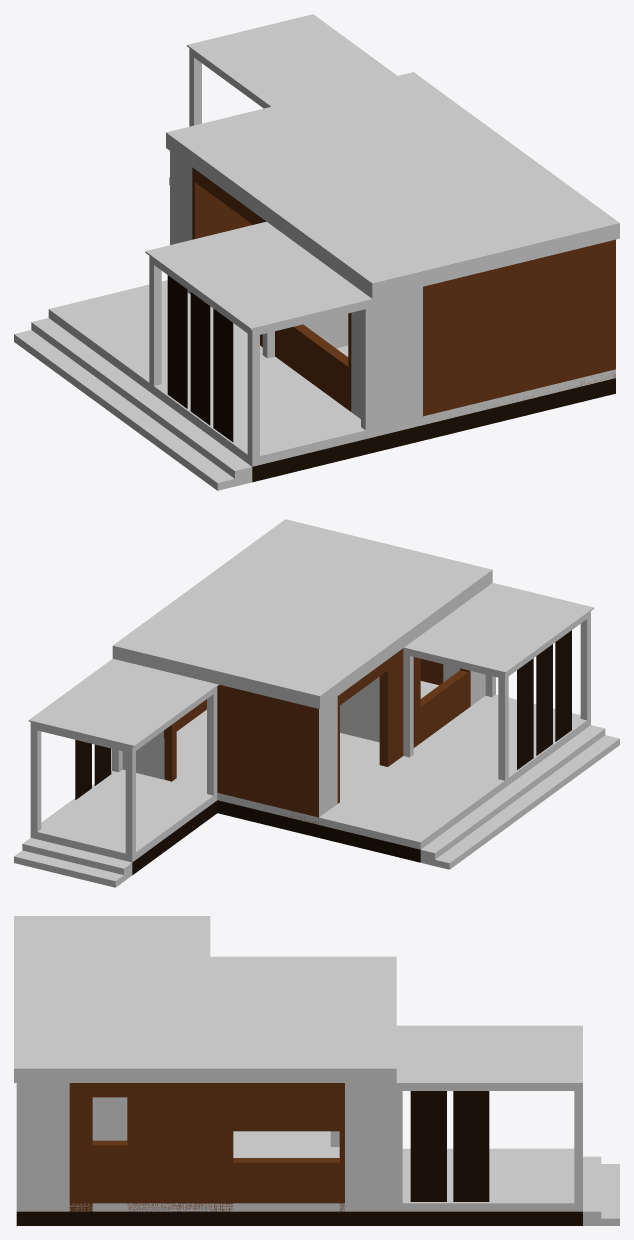
Rendered from domek_11_27_09_rewizja.gltf.
3 views of the same model, one above another, from view 1: azimuth 30°, elevation 25°; view 2: azimuth 150°, elevation 25°; view 3: azimuth 270°, elevation 25° (orthographic). The views are drawn at different scales.
Visible parts, largest first — view 1: dach.001, zach_drewno, pn taras podloga, dach najwyzej, pd zadaszenie support, zach_beton, schodek 2.001, schodek 1.001, podpiwniczenie, pn-zach pod oknem, element azurowy.003, element azurowy.002 (+15 smaller); view 2: dach.001, pn taras podloga, wsch-pn sciana_drewno, dach najwyzej, pd zadaszenie support, taras podloga, podloga, schodek 2.001, schodek 1.001, pn sciana, schodek 1.002, pn-zach pod oknem (+22 smaller); view 3: dach.001, pd drewo, pd zadaszenie support, dach najwyzej, taras podloga, pd-zach beton.001, podloga, podpiwniczenie, pd-zach beton, pd-wsch nadproze, pd-wsch pod oknem, element azurowy (+12 smaller).
Part boxes in pixels (x1,y1,x2,y2): dach.001: (166,72,619,298); zach_drewno: (423,239,615,416); pn taras podloga: (48,280,373,466); dach najwyzej: (145,221,374,329); pd zadaszenie support: (187,14,397,106); zach_beton: (373,287,422,436); schodek 2.001: (31,318,252,486); schodek 1.001: (14,330,234,490); podpiwniczenie: (373,378,615,452); pn-zach pod oknem: (291,324,348,409); element azurowy.003: (167,275,187,408); element azurowy.002: (190,292,210,425); dach.001: (112,519,492,708); pn taras podloga: (319,694,590,849); wsch-pn sciana_drewno: (217,685,318,824); dach najwyzej: (403,583,594,673); pd zadaszenie support: (28,658,219,746); taras podloga: (37,769,213,860); podloga: (164,681,438,824); schodek 2.001: (420,725,605,865); schodek 1.001: (435,735,619,869); pn sciana: (379,648,420,766); schodek 1.002: (14,838,132,887); pn-zach pod oknem: (420,670,468,742); dach.001: (14,956,396,1082); pd drewo: (127,1083,233,1211); pd zadaszenie support: (394,1025,582,1084); dach najwyzej: (14,916,210,956); taras podloga: (394,1148,582,1211); pd-zach beton.001: (16,1083,69,1211); podloga: (16,1131,393,1211); podpiwniczenie: (16,1211,393,1225); pd-zach beton: (345,1083,393,1211); pd-wsch nadproze: (233,1083,339,1131); pd-wsch pod oknem: (233,1158,339,1203); element azurowy: (410,1091,446,1201).
Bounding box in the file's own units: 8.1 × 3.3 × 11.43.
